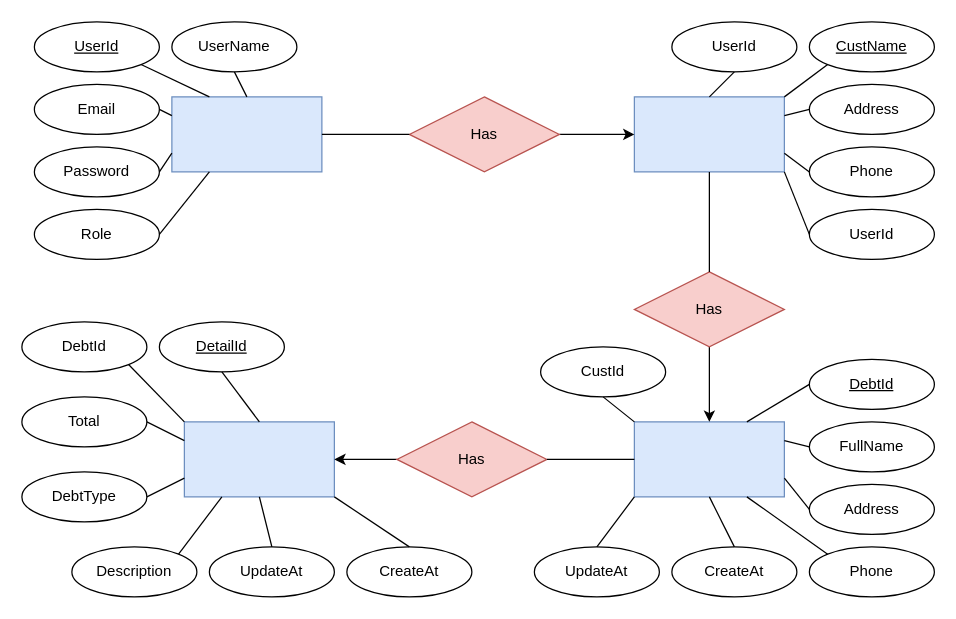
This 956x619 diagram has some shape labels left out. Each missing label, with the centre of its shape:
"Customers" goes at point 708,134.
"Debt" goes at point 708,459.
"DebtDetail" goes at point 258,459.
"Users" goes at point 246,134.
